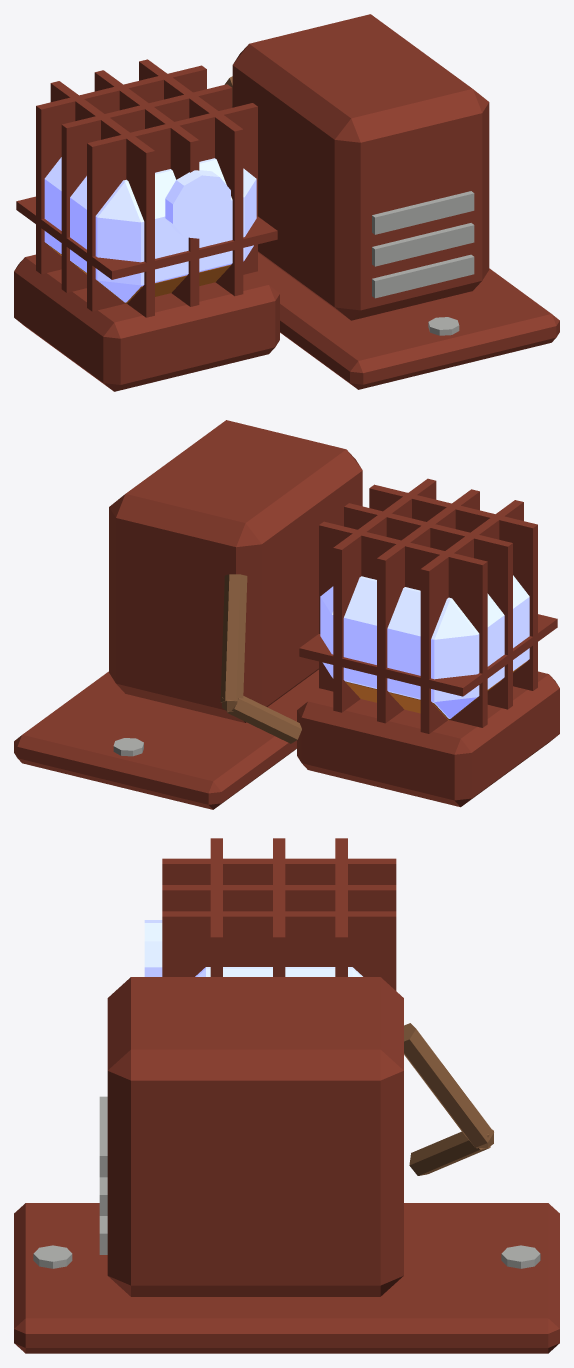
File: rail-chain-signal.glb
3 renders of one model, top to bottom at view 1: azimuth 30°, elevation 25°; view 2: azimuth 150°, elevation 25°; view 3: azimuth 270°, elevation 25°, orthographic. The views are drawn at different scales.
Visible parts, largest first — view 1: body, anim_lit_blue; view 2: body, anim_lit_blue; view 3: body, anim_lit_blue.
Part boxes in pixels (left/top/right/bottom): body: left=14, top=14, right=559, bottom=391; anim_lit_blue: left=44, top=157, right=256, bottom=302; body: left=14, top=420, right=559, bottom=809; anim_lit_blue: left=320, top=575, right=529, bottom=718; body: left=14, top=838, right=559, bottom=1353; anim_lit_blue: left=144, top=920, right=362, bottom=976.
Bounding box in the file's own units: 0.72 × 0.405 × 0.7.
